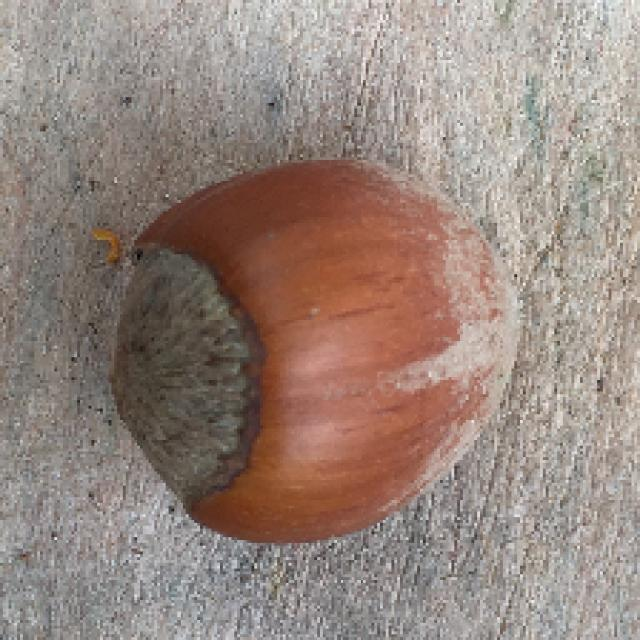qualityHazelnut: (108, 166, 517, 522)
